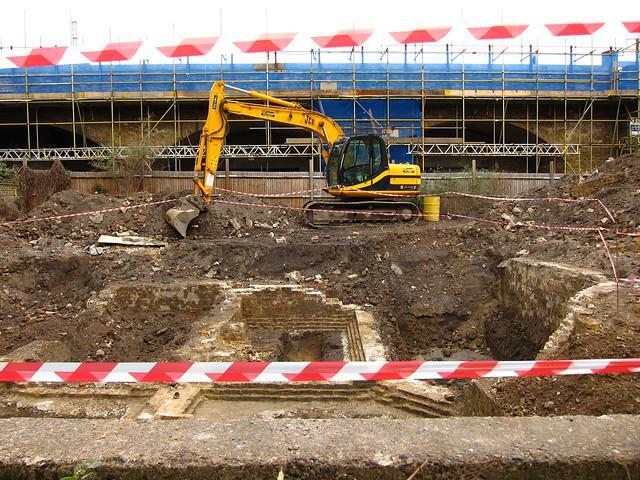EXCAVATORS: (166, 77, 422, 236)
